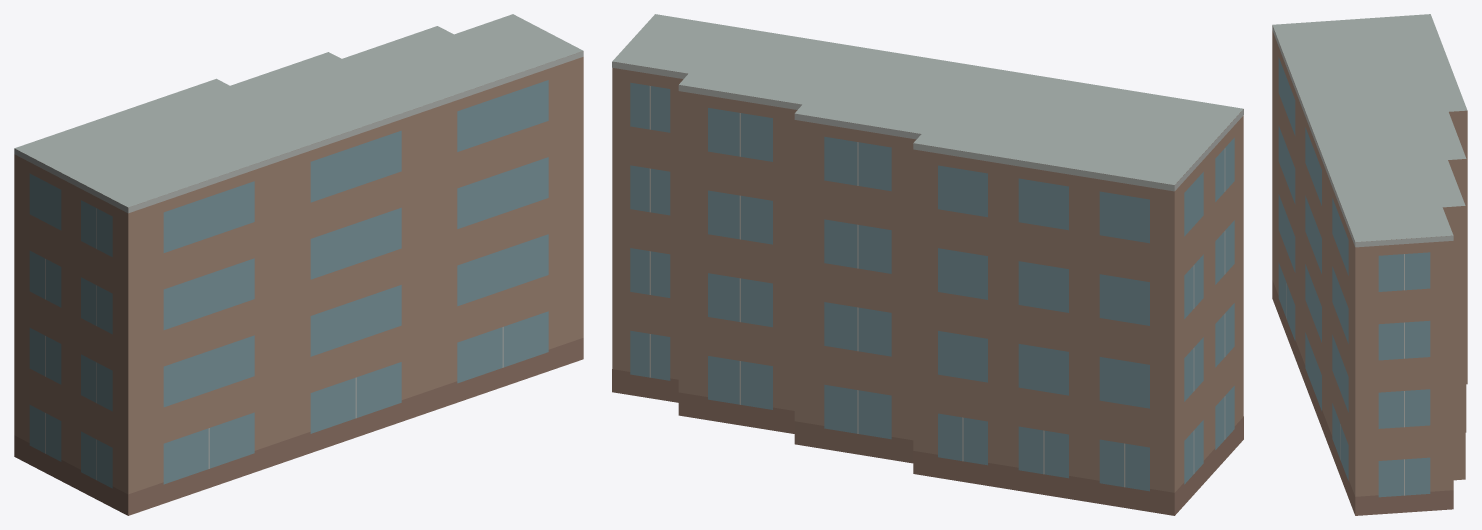
Rendered from survey-upis-32818291.glb.
3 views of the same model, side by side, from view 1: azimuth 30°, elevation 25°; view 2: azimuth 150°, elevation 25°; view 3: azimuth 270°, elevation 25° (orthographic). The views are drawn at different scales.
Visible parts, largest first — view 1: survey-upis-32818291.tmp; view 2: survey-upis-32818291.tmp; view 3: survey-upis-32818291.tmp.
Boxes of the visible parts, <box> form: survey-upis-32818291.tmp: <box>14,14,583,515</box>; survey-upis-32818291.tmp: <box>612,14,1243,515</box>; survey-upis-32818291.tmp: <box>1272,14,1467,515</box>.
Size of the model in its own units: 22.9 by 12.8 by 8.28.
